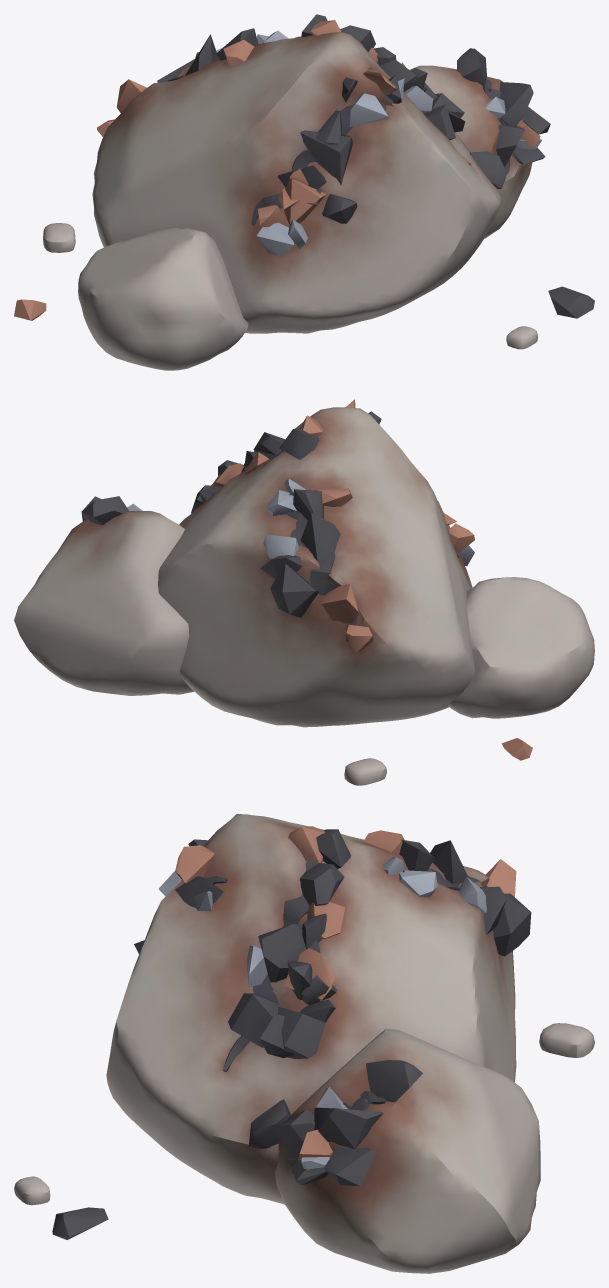
File: iron-ore-rock.glb
The picture shows the model from 3 angles, top to bottom: view 1: azimuth 30°, elevation 25°; view 2: azimuth 150°, elevation 25°; view 3: azimuth 270°, elevation 25°; orthographic projection. The views are drawn at different scales.
Parts seen in each view (by area): view 1: iron-ore-rock_body; view 2: iron-ore-rock_body; view 3: iron-ore-rock_body.
Part boxes in pixels (left/top/right/bottom): iron-ore-rock_body: left=14, top=14, right=594, bottom=370; iron-ore-rock_body: left=14, top=399, right=594, bottom=785; iron-ore-rock_body: left=14, top=814, right=594, bottom=1273.
Size of the model in its own units: 1.07 by 0.5275 by 0.8593.
1 material, 1 textured.
